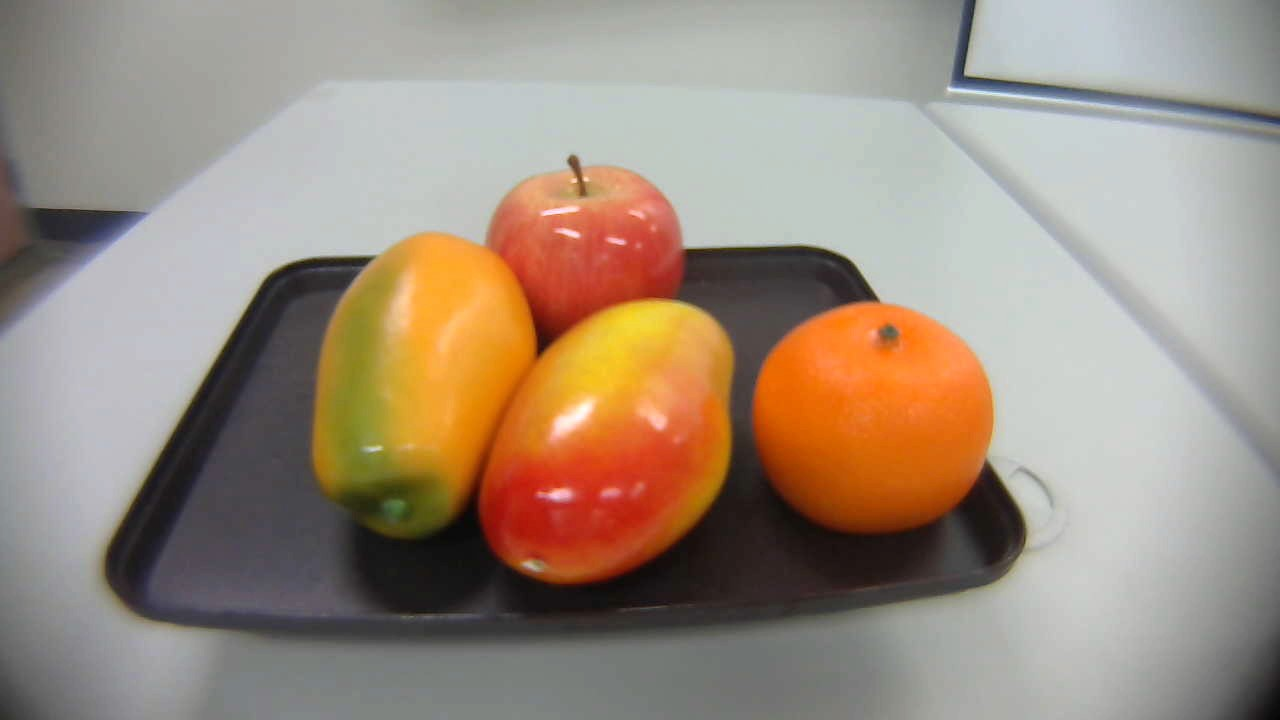orange: (745, 296, 997, 534)
papya: (303, 233, 535, 553)
red apple: (482, 156, 685, 343)
red mango: (465, 289, 752, 588)
